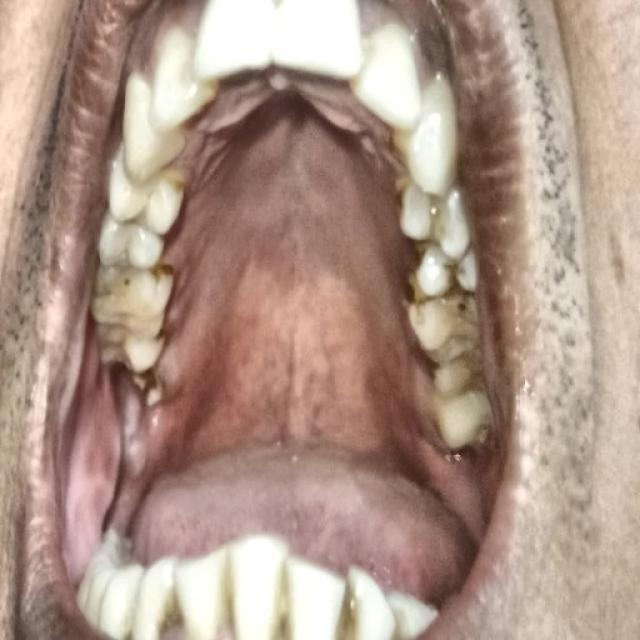processing_area: (64, 78, 486, 586)
